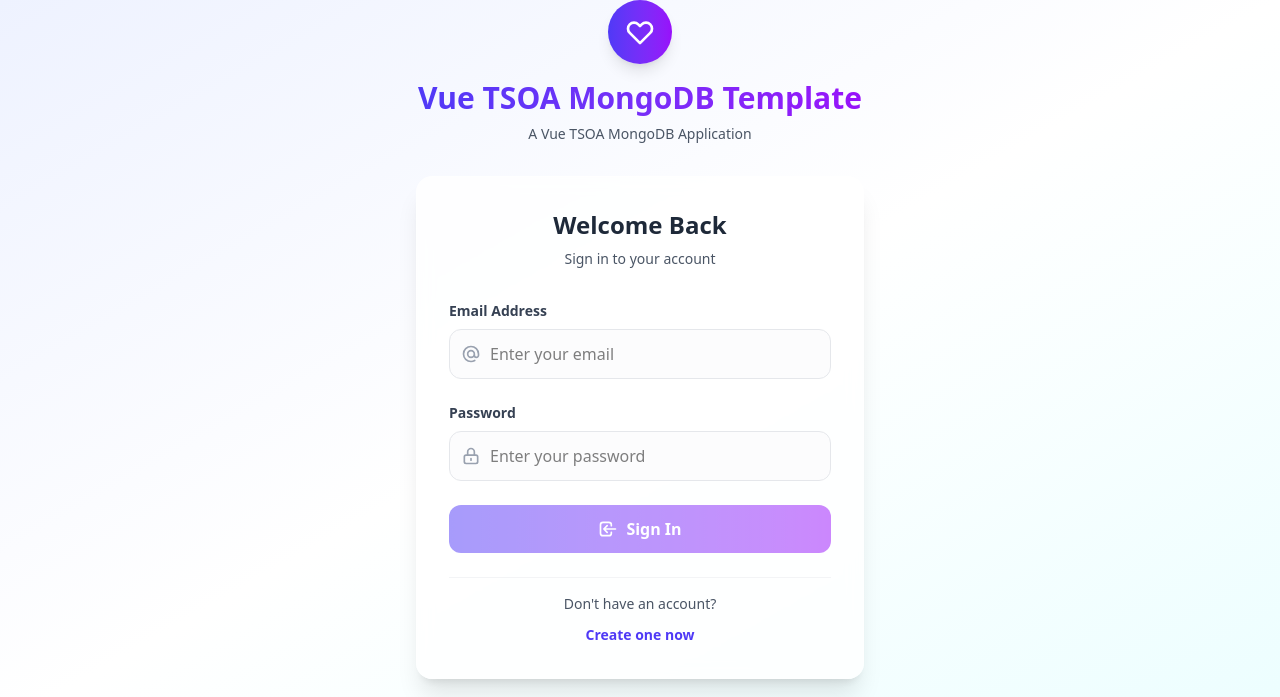
Test: AdminLogin.vue › shows sign up mode when toggled
Click the button "Create one now". click: (640, 635)
box: left=586, top=625, right=695, bottom=645
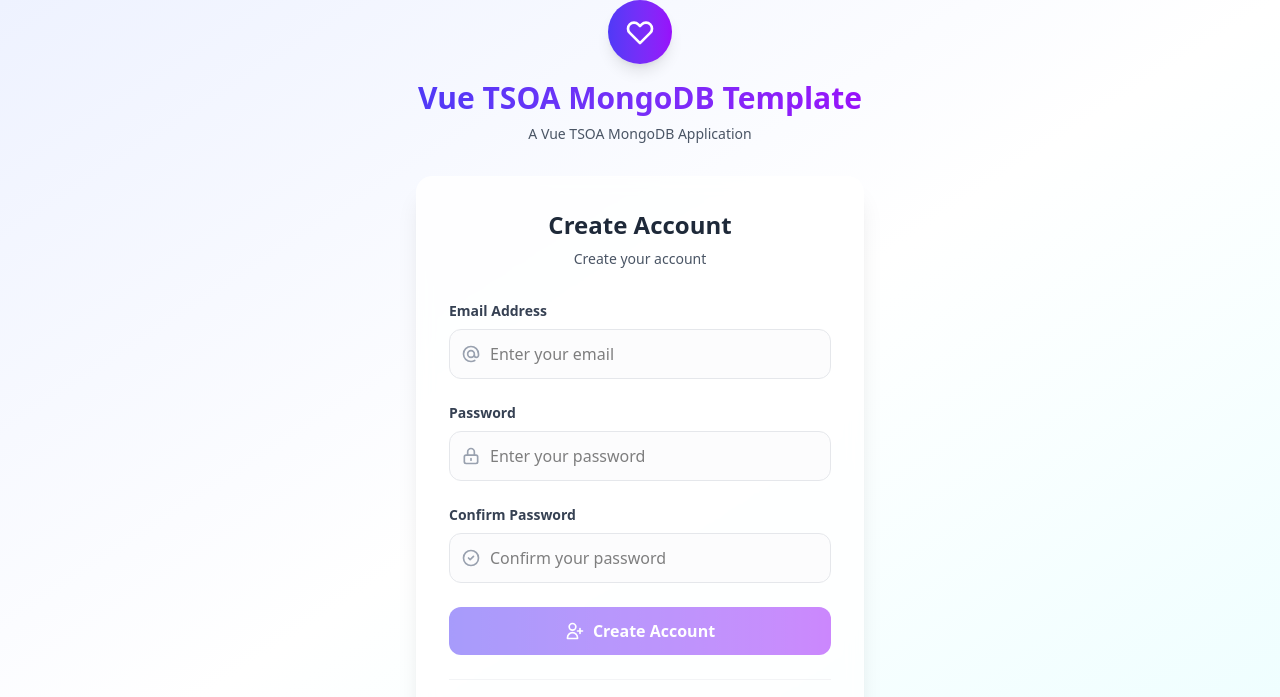
Check: the text "Create Account" is shown, box left=548, top=208, right=732, bottom=241
Check: the password field with id "confirmPassword" is shown, box left=449, top=533, right=831, bottom=583
